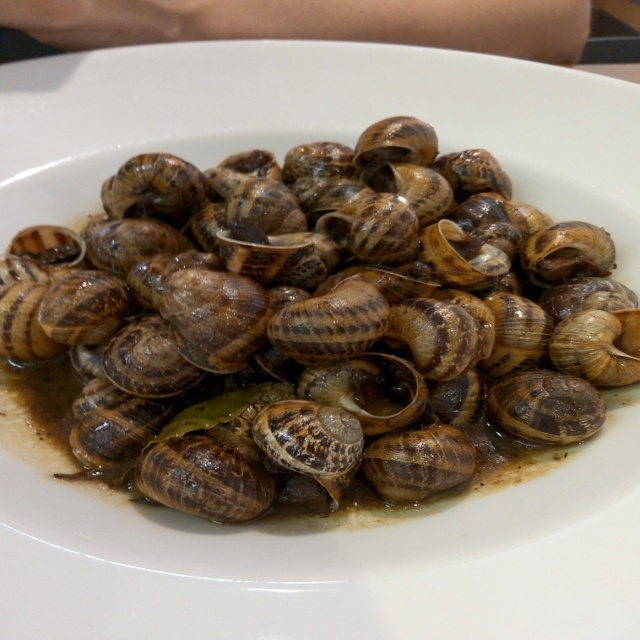Snail: (0, 117, 640, 525)
